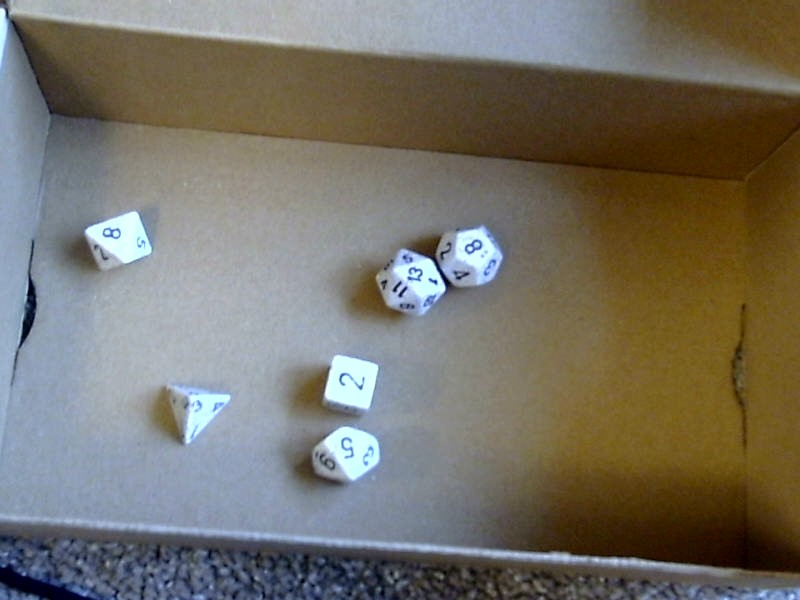d10 5: (305, 422, 383, 489)
d12 8: (433, 219, 508, 292)
d20 13: (366, 246, 447, 324)
d4 3: (158, 377, 234, 452)
d6 2: (318, 352, 383, 419)
d8 8: (81, 207, 156, 275)
